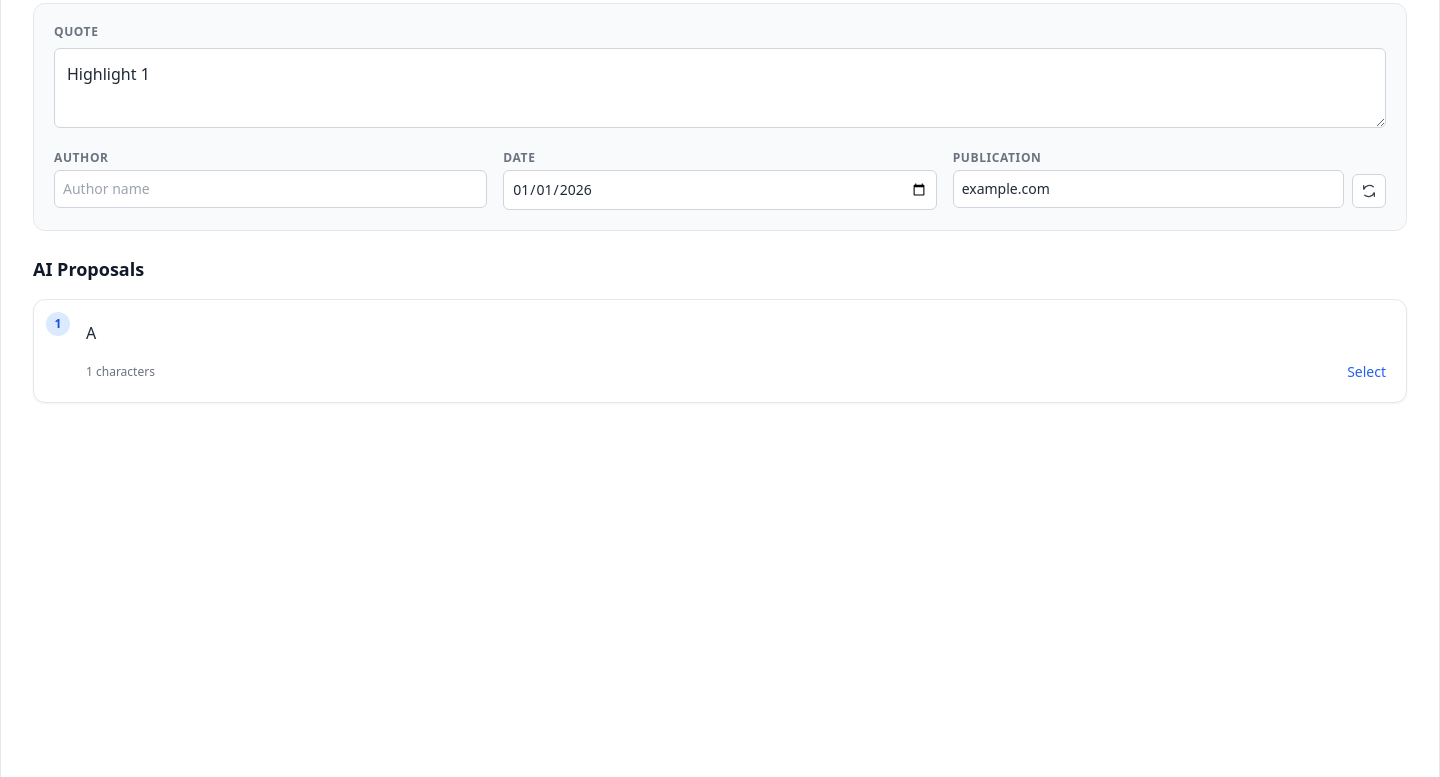
PostPage — AI proposals panel › regenerate button switches carousel back to proposals
(page scrolled)
Click the button with aria-label "select this proposal" at [1367, 372], box top-left (1347, 362), bottom-right (1386, 382)
(page scrolled)
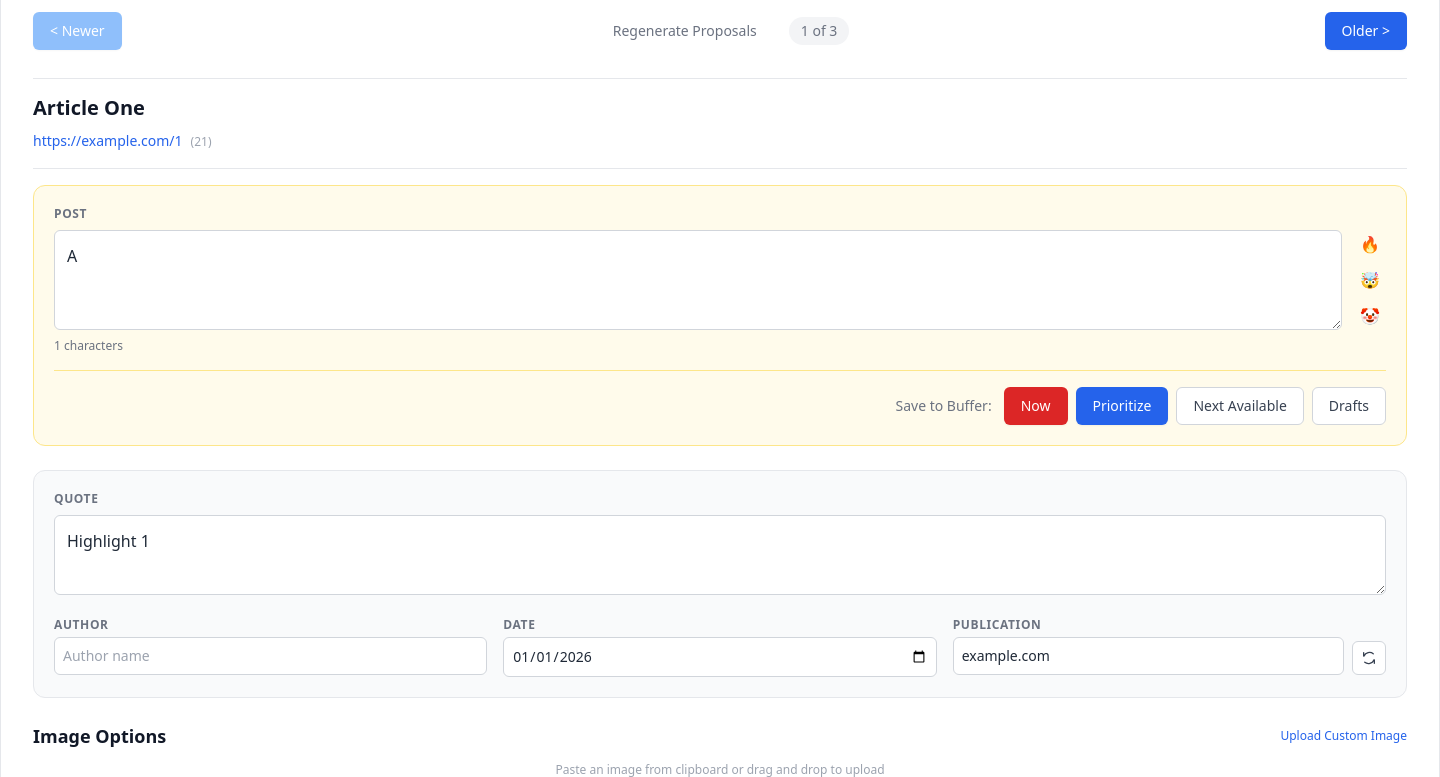
Click the button "Regenerate Proposals" at [685, 31], box top-left (597, 13), bottom-right (773, 49)
(page scrolled)
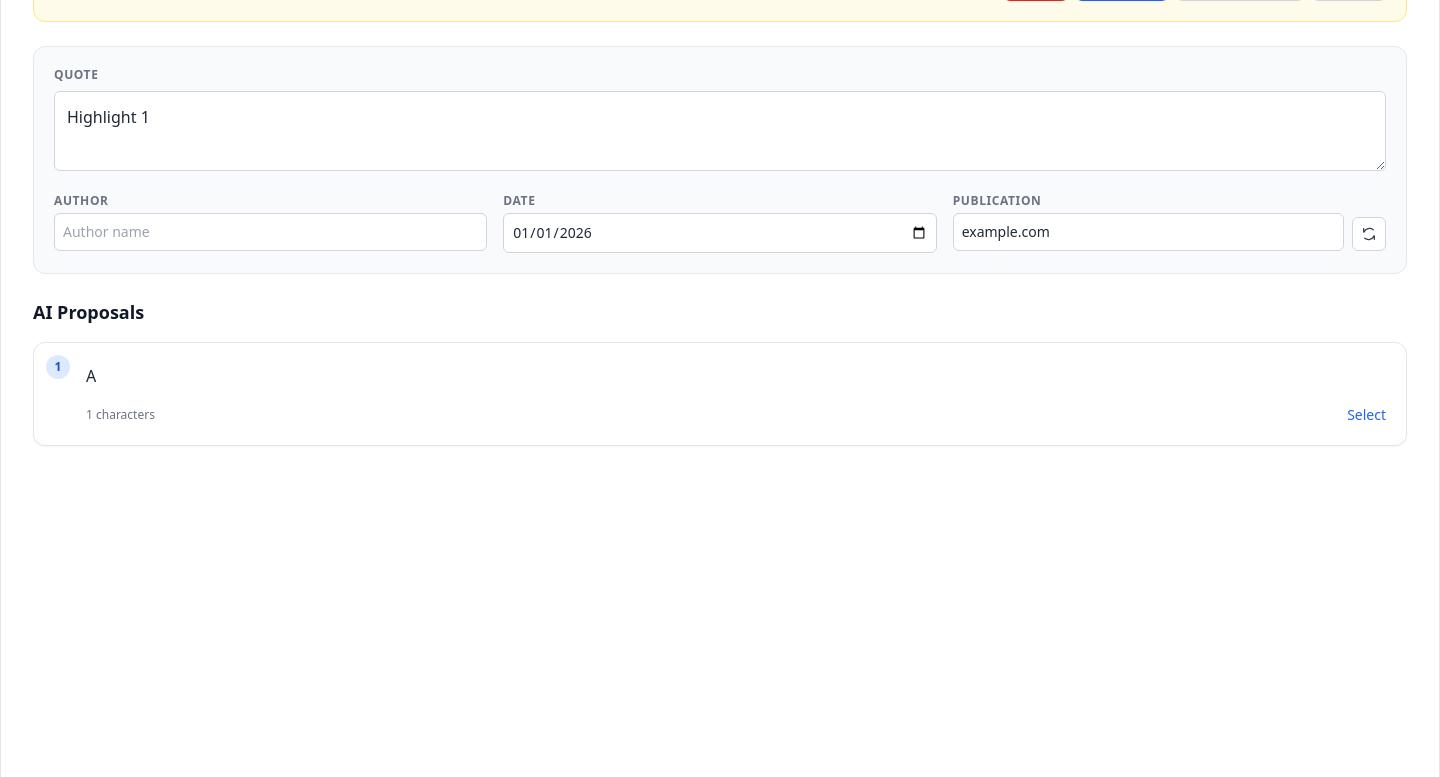
Expected: the element with test id "ai-proposals-panel" is shown, top-left (33, 298), bottom-right (1407, 446)
